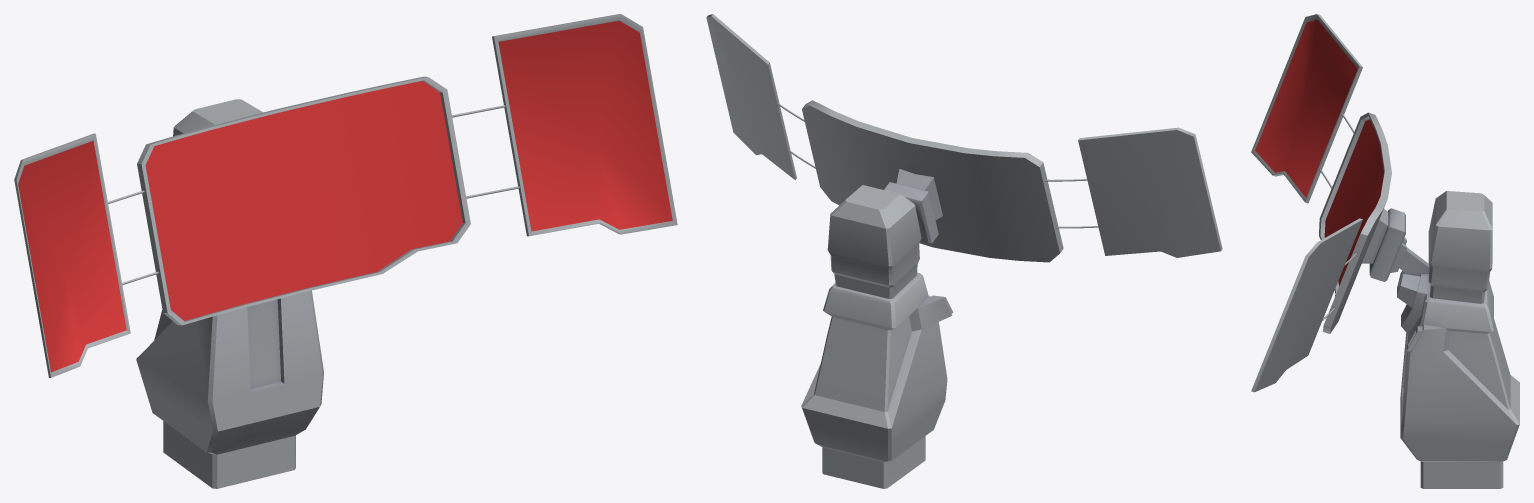
Rendered from Panel_B.fbx.
3 renders of one model, left to right at view 1: azimuth 30°, elevation 25°; view 2: azimuth 150°, elevation 25°; view 3: azimuth 270°, elevation 25°, orthographic. The views are drawn at different scales.
Parts seen in each view (by area): view 1: Panel_B; view 2: Panel_B; view 3: Panel_B.
Part boxes in pixels (box(x1,y1,x2,y2)): Panel_B: box(14, 14, 677, 488); Panel_B: box(706, 14, 1222, 488); Panel_B: box(1251, 14, 1519, 488).
Bounding box in the file's own units: 238 × 160 × 113.
Materials: 1 (1 with a texture image).
